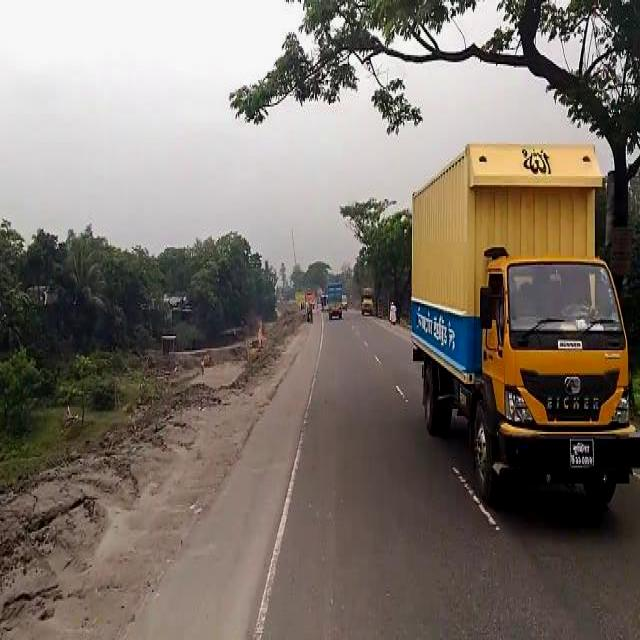TRUCK: (407, 148, 638, 518), (327, 280, 342, 322)
